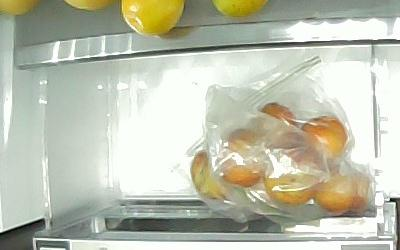prune_vinyl: (262, 144, 320, 205), (215, 127, 263, 186), (244, 101, 301, 147), (298, 114, 346, 163), (312, 161, 356, 211), (190, 148, 229, 199), (351, 171, 370, 207)
